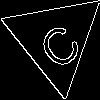C: (30, 14, 85, 72)
